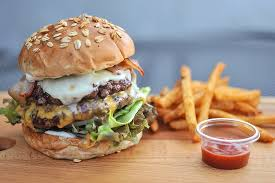hamburger: (16, 13, 152, 157)
